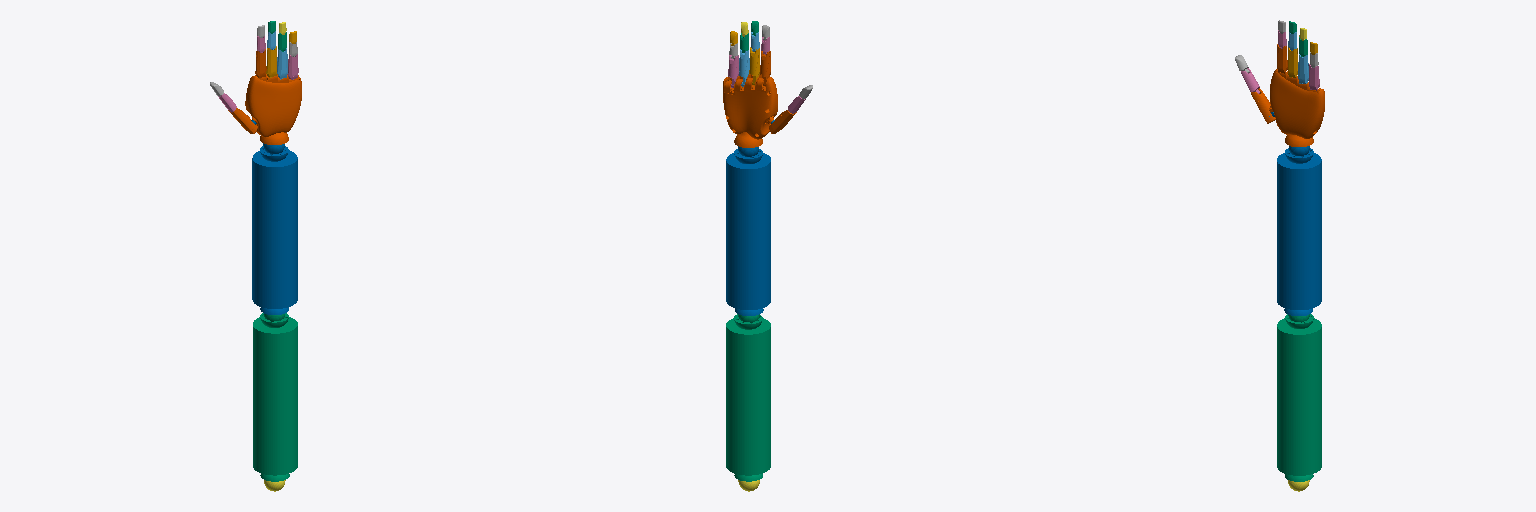
robot.urdf — threedof:
<robot name="threedof" version="1.0">
  <joint name="backarmx_link_joint" type="revolute">
    <limit lower="-3.14000" upper="3.14000" effort="0.00000" velocity="0.00000"/>
    <origin rpy="0.00000 0.00000 0.00000" xyz="0.00000 0.00000 0.00000"/>
    <parent link="base_link"/>
    <child link="backarm_link"/>
    <axis xyz="-1.00000 0.00000 0.00000"/>
  </joint>
  <joint name="backarmy_link_joint" type="revolute">
    <limit lower="-3.14000" upper="3.14000" effort="0.00000" velocity="0.00000"/>
    <origin rpy="0.00000 0.00000 0.00000" xyz="0.00000 0.00000 0.00000"/>
    <parent link="backarm_link"/>
    <child link="backarm_link.001"/>
    <axis xyz="0.00000 1.00000 0.00000"/>
  </joint>
  <joint name="backarmz_link_joint" type="revolute">
    <limit lower="-3.14000" upper="3.14000" effort="0.00000" velocity="0.00000"/>
    <origin rpy="0.00000 0.00000 0.00000" xyz="0.00000 0.00000 0.00000"/>
    <parent link="backarm_link.001"/>
    <child link="backarm_link.002"/>
    <axis xyz="0.00000 0.00000 1.00000"/>
  </joint>
  <joint name="forearmx_link_joint" type="revolute">
    <limit lower="-3.14000" upper="3.14000" effort="0.00000" velocity="0.00000"/>
    <origin rpy="0.00000 0.00000 0.00000" xyz="0.00000 0.00000 0.61707"/>
    <parent link="backarm_link.002"/>
    <child link="forearm_link"/>
    <axis xyz="-1.00000 0.00000 0.00000"/>
  </joint>
  <joint name="ind01_link_joint" type="revolute">
    <limit lower="-3.14000" upper="3.14000" effort="0.00000" velocity="0.00000"/>
    <origin rpy="0.00000 0.00000 0.00000" xyz="0.00000 0.00000 0.00000"/>
    <parent link="palm_link"/>
    <child link="palm_link.001"/>
    <axis xyz="0.00000 0.00000 1.00000"/>
  </joint>
  <joint name="ind02_link_joint" type="revolute">
    <limit lower="-3.14000" upper="3.14000" effort="0.00000" velocity="0.00000"/>
    <origin rpy="0.00000 0.00000 0.00000" xyz="0.00000 0.00000 0.00000"/>
    <parent link="palm_link.001"/>
    <child link="palm_link.002"/>
    <axis xyz="0.00000 1.00000 0.00000"/>
  </joint>
  <joint name="ind0_link_joint" type="revolute">
    <limit lower="-3.14000" upper="3.14000" effort="0.00000" velocity="0.00000"/>
    <origin rpy="0.00000 0.00000 0.00000" xyz="0.00000 0.00000 0.61571"/>
    <parent link="forearm_link"/>
    <child link="palm_link"/>
    <axis xyz="-1.00000 0.00000 0.00000"/>
  </joint>
  <joint name="ind0i_link_joint" type="revolute">
    <limit lower="-3.14000" upper="3.14000" effort="0.00000" velocity="0.00000"/>
    <origin rpy="0.00000 0.00000 0.00000" xyz="-0.06628 -0.00526 0.24780"/>
    <parent link="palm_link.002"/>
    <child link="ind0_link"/>
    <axis xyz="-1.00000 0.00000 0.00000"/>
  </joint>
  <joint name="ind1_link_joint" type="revolute">
    <limit lower="-3.14000" upper="3.14000" effort="0.00000" velocity="0.00000"/>
    <origin rpy="0.00000 0.00000 0.00000" xyz="0.00737 -0.00269 0.10775"/>
    <parent link="ind0_link"/>
    <child link="ind1_link"/>
    <axis xyz="-1.00000 0.00000 0.00000"/>
  </joint>
  <joint name="ind2_link_joint" type="revolute">
    <limit lower="-3.14000" upper="3.14000" effort="0.00000" velocity="0.00000"/>
    <origin rpy="0.00000 0.00000 0.00000" xyz="-0.00008 0.00019 0.05358"/>
    <parent link="ind1_link"/>
    <child link="ind2_link"/>
    <axis xyz="-1.00000 0.00000 0.00000"/>
  </joint>
  <joint name="mid0_link_joint" type="revolute">
    <limit lower="-3.14000" upper="3.14000" effort="0.00000" velocity="0.00000"/>
    <origin rpy="0.00000 0.00000 0.00000" xyz="-0.02463 -0.00511 0.24156"/>
    <parent link="palm_link.002"/>
    <child link="mid0_link"/>
    <axis xyz="-1.00000 0.00000 0.00000"/>
  </joint>
  <joint name="mid1_link_joint" type="revolute">
    <limit lower="-3.14000" upper="3.14000" effort="0.00000" velocity="0.00000"/>
    <origin rpy="0.00000 0.00000 0.00000" xyz="0.00662 -0.00299 0.11437"/>
    <parent link="mid0_link"/>
    <child link="mid1_link"/>
    <axis xyz="-1.00000 0.00000 0.00000"/>
  </joint>
  <joint name="mid2_link_joint" type="revolute">
    <limit lower="-3.14000" upper="3.14000" effort="0.00000" velocity="0.00000"/>
    <origin rpy="0.00000 0.00000 0.00000" xyz="-0.00018 0.00014 0.06014"/>
    <parent link="mid1_link"/>
    <child link="mid2_link"/>
    <axis xyz="-1.00000 0.00000 0.00000"/>
  </joint>
  <joint name="pink0_link_joint" type="revolute">
    <limit lower="-3.14000" upper="3.14000" effort="0.00000" velocity="0.00000"/>
    <origin rpy="0.00000 0.00000 0.00000" xyz="0.05707 -0.00491 0.21334"/>
    <parent link="palm_link.002"/>
    <child link="pink0_link"/>
    <axis xyz="-1.00000 0.00000 0.00000"/>
  </joint>
  <joint name="pink1_link_joint" type="revolute">
    <limit lower="-3.14000" upper="3.14000" effort="0.00000" velocity="0.00000"/>
    <origin rpy="0.00000 0.00000 0.00000" xyz="0.00763 -0.00303 0.09828"/>
    <parent link="pink0_link"/>
    <child link="pink1_link"/>
    <axis xyz="-1.00000 0.00000 0.00000"/>
  </joint>
  <joint name="pink2_link_joint" type="revolute">
    <limit lower="-3.14000" upper="3.14000" effort="0.00000" velocity="0.00000"/>
    <origin rpy="0.00000 0.00000 0.00000" xyz="-0.00065 -0.00001 0.04655"/>
    <parent link="pink1_link"/>
    <child link="pink2_link"/>
    <axis xyz="-1.00000 0.00000 0.00000"/>
  </joint>
  <joint name="ring0_link_joint" type="revolute">
    <limit lower="-3.14000" upper="3.14000" effort="0.00000" velocity="0.00000"/>
    <origin rpy="0.00000 0.00000 0.00000" xyz="0.01624 -0.00360 0.22594"/>
    <parent link="palm_link.002"/>
    <child link="ring0_link"/>
    <axis xyz="-1.00000 0.00000 0.00000"/>
  </joint>
  <joint name="ring1_link_joint" type="revolute">
    <limit lower="-3.14000" upper="3.14000" effort="0.00000" velocity="0.00000"/>
    <origin rpy="0.00000 0.00000 0.00000" xyz="0.00680 -0.00436 0.11628"/>
    <parent link="ring0_link"/>
    <child link="ring1_link"/>
    <axis xyz="-1.00000 0.00000 0.00000"/>
  </joint>
  <joint name="ring2_link_joint" type="revolute">
    <limit lower="-3.14000" upper="3.14000" effort="0.00000" velocity="0.00000"/>
    <origin rpy="0.00000 0.00000 0.00000" xyz="-0.00012 -0.00003 0.05997"/>
    <parent link="ring1_link"/>
    <child link="ring2_link"/>
    <axis xyz="-1.00000 0.00000 0.00000"/>
  </joint>
  <joint name="thumb0_link_joint" type="revolute">
    <limit lower="-3.14000" upper="3.14000" effort="0.00000" velocity="0.00000"/>
    <origin rpy="0.00000 0.00000 0.00000" xyz="-0.08268 -0.01129 0.11191"/>
    <parent link="palm_link.002"/>
    <child link="thumb0_link"/>
    <axis xyz="-0.68144 0.00000 -0.73187"/>
  </joint>
  <joint name="thumb1_link_joint" type="revolute">
    <limit lower="-3.14000" upper="3.14000" effort="0.00000" velocity="0.00000"/>
    <origin rpy="0.00000 0.00000 0.00000" xyz="-0.01952 -0.00025 -0.01952"/>
    <parent link="thumb0_link"/>
    <child link="thumb1_link"/>
    <axis xyz="0.04196 0.99912 0.00118"/>
  </joint>
  <joint name="thumb2_link_joint" type="revolute">
    <limit lower="-3.14000" upper="3.14000" effort="0.00000" velocity="0.00000"/>
    <origin rpy="0.10008 -0.00559 0.02773" xyz="-0.05553 0.00533 0.07200"/>
    <parent link="thumb1_link"/>
    <child link="thumb2_link"/>
    <axis xyz="0.13584 0.98435 -0.11222"/>
  </joint>
  <joint name="thumb3_link_joint" type="revolute">
    <limit lower="-3.14000" upper="3.14000" effort="0.00000" velocity="0.00000"/>
    <origin rpy="-0.00000 -0.00000 0.00000" xyz="-0.04382 0.01172 0.06431"/>
    <parent link="thumb2_link"/>
    <child link="thumb3_link"/>
    <axis xyz="0.13584 0.98435 -0.11222"/>
  </joint>
  <link name="backarm_link">
    <inertial>
      <inertia ixx="0.01500" ixy="0.00000" ixz="0.00002" iyy="0.01500" iyz="-0.00003" izz="0.00118"/>
      <mass value="0.50000"/>
    </inertial>
  </link>
  <link name="backarm_link.001">
    <inertial>
      <inertia ixx="0.01500" ixy="0.00000" ixz="0.00002" iyy="0.01500" iyz="-0.00003" izz="0.00118"/>

      <mass value="0.50000"/>
    </inertial>
  </link>
  <link name="backarm_link.002">
    <collision name="backarm_collision">
      <origin rpy="1.57080 0.00000 0.00000" xyz="0.00024 0.00103 0.33362"/>
      <geometry>
        <mesh filename="meshes/stl/backarm.stl" scale="0.00200 0.00200 0.00200"/>
      </geometry>
    </collision>
    <inertial>
      <inertia ixx="0.01500" ixy="0.00000" ixz="0.00002" iyy="0.01500" iyz="-0.00003" izz="0.00118"/>
      <origin rpy="0.00000 0.00000 0.00000" xyz="0.00129 0.00015 0.32583"/>
      <mass value="0.50000"/>
    </inertial>
    <visual name="backarm">
      <origin rpy="1.57080 0.00000 0.00000" xyz="0.00024 0.00103 0.33362"/>
      <geometry>
        <mesh filename="meshes/stl/backarm.stl" scale="0.00200 0.00200 0.00200"/>
      </geometry>
    </visual>
  </link>
  <link name="base_link">
    <inertial>
      <inertia ixx="0.00026" ixy="-0.00000" ixz="-0.00000" iyy="0.00026" iyz="0.00000" izz="0.00026"/>
      <origin rpy="0.00000 0.00000 0.00000" xyz="-0.00074 -0.00003 0.00184"/>
      <mass value="0.50000"/>
    </inertial>
    <visual name="shoulder">
      <origin rpy="1.57080 0.00000 0.00000" xyz="-0.00074 -0.00049 0.00184"/>
      <geometry>
        <mesh filename="meshes/stl/shoulder.stl" scale="0.00200 0.00200 0.00200"/>
      </geometry>
    </visual>
  </link>
  <link name="forearm_link">
    <collision name="forearm_collision">
      <origin rpy="1.57080 0.00000 0.00000" xyz="-0.00061 0.00121 0.32742"/>
      <geometry>
        <mesh filename="meshes/stl/forearm.stl" scale="0.00200 0.00200 0.00200"/>
      </geometry>
    </collision>
    <inertial>
      <inertia ixx="0.01511" ixy="0.00000" ixz="0.00001" iyy="0.01511" iyz="-0.00004" izz="0.00118"/>
      <origin rpy="0.00000 0.00000 0.00000" xyz="0.00038 0.00023 0.31921"/>
      <mass value="0.50000"/>
    </inertial>
    <visual name="forearm">
      <origin rpy="1.57080 0.00000 0.00000" xyz="-0.00061 0.00121 0.32742"/>
      <geometry>
        <mesh filename="meshes/stl/forearm.stl" scale="0.00200 0.00200 0.00200"/>
      </geometry>
    </visual>
  </link>
  <link name="ind0_link">
    <collision name="ind0_collision">
      <origin rpy="1.57080 0.00000 0.00000" xyz="0.00688 -0.00351 0.07148"/>
      <geometry>
        <mesh filename="meshes/stl/indo0.stl" scale="0.00200 0.00200 0.00200"/>
      </geometry>
    </collision>
    <inertial>
      <inertia ixx="0.00064" ixy="0.00000" ixz="-0.00004" iyy="0.00065" iyz="0.00003" izz="0.00006"/>
      <origin rpy="0.00000 0.00000 0.00000" xyz="0.00628 -0.00214 0.05481"/>
      <mass value="0.50000"/>
    </inertial>
    <visual name="ind0">
      <origin rpy="1.57080 0.00000 0.00000" xyz="0.00688 -0.00351 0.07148"/>
      <geometry>
        <mesh filename="meshes/stl/indo0.stl" scale="0.00200 0.00200 0.00200"/>
      </geometry>
    </visual>
  </link>
  <link name="ind1_link">
    <collision name="ind1_collision">
      <origin rpy="1.57080 0.00000 0.00000" xyz="-0.00022 -0.00015 0.03627"/>
      <geometry>
        <mesh filename="meshes/stl/ind1.stl" scale="0.00200 0.00200 0.00200"/>
      </geometry>
    </collision>
    <inertial>
      <inertia ixx="0.00014" ixy="0.00000" ixz="0.00000" iyy="0.00016" iyz="0.00000" izz="0.00004"/>
      <origin rpy="0.00000 0.00000 0.00000" xyz="0.00005 -0.00086 0.02902"/>
      <mass value="0.50000"/>
    </inertial>
    <visual name="ind1">
      <origin rpy="1.57080 0.00000 0.00000" xyz="-0.00022 -0.00015 0.03627"/>
      <geometry>
        <mesh filename="meshes/stl/ind1.stl" scale="0.00200 0.00200 0.00200"/>
      </geometry>
    </visual>
  </link>
  <link name="ind2_link">
    <collision name="ind2_collision">
      <origin rpy="1.57080 0.00000 0.00000" xyz="0.00044 0.00109 0.01686"/>
      <geometry>
        <mesh filename="meshes/stl/ind2.stl" scale="0.00200 0.00200 0.00200"/>
      </geometry>
    </collision>
    <inertial>
      <inertia ixx="0.00011" ixy="-0.00000" ixz="0.00000" iyy="0.00012" iyz="0.00001" izz="0.00003"/>
      <origin rpy="0.00000 0.00000 0.00000" xyz="0.00013 -0.00141 0.02231"/>
      <mass value="0.50000"/>
    </inertial>
    <visual name="ind2">
      <origin rpy="1.57080 0.00000 0.00000" xyz="0.00044 0.00109 0.01686"/>
      <geometry>
        <mesh filename="meshes/stl/ind2.stl" scale="0.00200 0.00200 0.00200"/>
      </geometry>
    </visual>
  </link>
  <link name="mid0_link">
    <collision name="mid0_collision">
      <origin rpy="1.57080 0.00000 0.00000" xyz="0.00653 -0.00358 0.07529"/>
      <geometry>
        <mesh filename="meshes/stl/mid0.stl" scale="0.00200 0.00200 0.00200"/>
      </geometry>
    </collision>
    <inertial>
      <inertia ixx="0.00071" ixy="0.00000" ixz="-0.00004" iyy="0.00072" iyz="0.00003" izz="0.00006"/>
      <origin rpy="0.00000 0.00000 0.00000" xyz="0.00614 -0.00150 0.06417"/>
      <mass value="0.50000"/>
    </inertial>
    <visual name="mid0">
      <origin rpy="1.57080 0.00000 0.00000" xyz="0.00653 -0.00358 0.07529"/>
      <geometry>
        <mesh filename="meshes/stl/mid0.stl" scale="0.00200 0.00200 0.00200"/>
      </geometry>
    </visual>
  </link>
  <link name="mid1_link">
    <collision name="mid1_collision">
      <origin rpy="1.57080 0.00000 0.00000" xyz="-0.00002 -0.00005 0.04230"/>
      <geometry>
        <mesh filename="meshes/stl/mid1.stl" scale="0.00200 0.00200 0.00200"/>
      </geometry>
    </collision>
    <inertial>
      <inertia ixx="0.00020" ixy="0.00000" ixz="0.00000" iyy="0.00021" iyz="0.00000" izz="0.00004"/>
      <origin rpy="0.00000 0.00000 0.00000" xyz="0.00016 -0.00070 0.03234"/>
      <mass value="0.50000"/>
    </inertial>
    <visual name="mid1">
      <origin rpy="1.57080 0.00000 0.00000" xyz="-0.00002 -0.00005 0.04230"/>
      <geometry>
        <mesh filename="meshes/stl/mid1.stl" scale="0.00200 0.00200 0.00200"/>
      </geometry>
    </visual>
  </link>
  <link name="mid2_link">
    <collision name="mid2_collision">
      <origin rpy="1.57080 0.00000 0.00000" xyz="0.00064 0.00128 0.01692"/>
      <geometry>
        <mesh filename="meshes/stl/mid2.stl" scale="0.00200 0.00200 0.00200"/>
      </geometry>
    </collision>
    <inertial>
      <inertia ixx="0.00011" ixy="-0.00000" ixz="0.00000" iyy="0.00012" iyz="0.00001" izz="0.00003"/>
      <origin rpy="0.00000 0.00000 0.00000" xyz="0.00033 -0.00121 0.02238"/>
      <mass value="0.50000"/>
    </inertial>
    <visual name="mid2">
      <origin rpy="1.57080 0.00000 0.00000" xyz="0.00064 0.00128 0.01692"/>
      <geometry>
        <mesh filename="meshes/stl/mid2.stl" scale="0.00200 0.00200 0.00200"/>
      </geometry>
    </visual>
  </link>
  <link name="palm_link">
    <inertial>
      <inertia ixx="0.00162" ixy="0.00001" ixz="0.00016" iyy="0.00258" iyz="0.00002" izz="0.00114"/>
      <origin rpy="0.00000 0.00000 0.00000" xyz="-0.00568 -0.00267 0.14686"/>
      <mass value="0.50000"/>
    </inertial>
  </link>
  
  <link name="palm_link.001">
    <inertial>
      <inertia ixx="0.00162" ixy="0.00001" ixz="0.00016" iyy="0.00258" iyz="0.00002" izz="0.00114"/>
      <origin rpy="0.00000 0.00000 0.00000" xyz="-0.00568 -0.00267 0.14686"/>
      <mass value="0.50000"/>
    </inertial>
  </link>
  <link name="palm_link.002">
    <collision name="palm_collision">
      <origin rpy="1.57080 0.00000 0.00000" xyz="-0.00958 -0.00222 0.14685"/>
      <geometry>
        <mesh filename="meshes/stl/palm.stl" scale="0.00200 0.00200 0.00200"/>
      </geometry>
    </collision>
    <inertial>
      <inertia ixx="0.00162" ixy="0.00001" ixz="0.00016" iyy="0.00258" iyz="0.00002" izz="0.00114"/>
      <origin rpy="0.00000 0.00000 0.00000" xyz="-0.00568 -0.00267 0.14686"/>
      <mass value="0.50000"/>
    </inertial>
    <visual name="palm">
      <origin rpy="1.57080 0.00000 0.00000" xyz="-0.00958 -0.00222 0.14685"/>
      <geometry>
        <mesh filename="meshes/stl/palm.stl" scale="0.00200 0.00200 0.00200"/>
      </geometry>
    </visual>
  </link>
  <link name="pink0_link">
    <collision name="pink0_collision">
      <origin rpy="1.57080 0.00000 0.00000" xyz="0.00640 -0.00332 0.06525"/>
      <geometry>
        <mesh filename="meshes/stl/pink0.stl" scale="0.00200 0.00200 0.00200"/>
      </geometry>
    </collision>
    <inertial>
      <inertia ixx="0.00054" ixy="0.00000" ixz="-0.00003" iyy="0.00056" iyz="0.00003" izz="0.00006"/>
      <origin rpy="0.00000 0.00000 0.00000" xyz="0.00601 -0.00221 0.05038"/>
      <mass value="0.50000"/>
    </inertial>
    <visual name="pink0">
      <origin rpy="1.57080 0.00000 0.00000" xyz="0.00640 -0.00332 0.06525"/>
      <geometry>
        <mesh filename="meshes/stl/pink0.stl" scale="0.00200 0.00200 0.00200"/>
      </geometry>
    </visual>
  </link>
  <link name="pink1_link">
    <collision name="pink1_collision">
      <origin rpy="1.57080 0.00000 0.00000" xyz="-0.00074 -0.00025 0.03199"/>
      <geometry>
        <mesh filename="meshes/stl/pink1.stl" scale="0.00200 0.00200 0.00200"/>
      </geometry>
    </collision>
    <inertial>
      <inertia ixx="0.00012" ixy="0.00000" ixz="0.00000" iyy="0.00013" iyz="0.00000" izz="0.00004"/>
      <origin rpy="0.00000 0.00000 0.00000" xyz="-0.00051 -0.00028 0.02895"/>
      <mass value="0.50000"/>
    </inertial>
    <visual name="pink1">
      <origin rpy="1.57080 0.00000 0.00000" xyz="-0.00074 -0.00025 0.03199"/>
      <geometry>
        <mesh filename="meshes/stl/pink1.stl" scale="0.00200 0.00200 0.00200"/>
      </geometry>
    </visual>
  </link>
  <link name="pink2_link">
    <collision name="pink2_collision">
      <origin rpy="1.57080 0.00000 0.00000" xyz="0.00041 0.00128 0.01682"/>
      <geometry>
        <mesh filename="meshes/stl/pink2.stl" scale="0.00200 0.00200 0.00200"/>
      </geometry>
    </collision>
    <inertial>
      <inertia ixx="0.00011" ixy="-0.00000" ixz="0.00000" iyy="0.00012" iyz="0.00001" izz="0.00003"/>
      <origin rpy="0.00000 0.00000 0.00000" xyz="0.00010 -0.00121 0.02227"/>
      <mass value="0.50000"/>
    </inertial>
    <visual name="pink2">
      <origin rpy="1.57080 0.00000 0.00000" xyz="0.00041 0.00128 0.01682"/>
      <geometry>
        <mesh filename="meshes/stl/pink2.stl" scale="0.00200 0.00200 0.00200"/>
      </geometry>
    </visual>
  </link>
  <link name="ring0_link">
    <collision name="ring0_collision">
      <origin rpy="1.57080 0.00000 0.00000" xyz="0.00634 -0.00508 0.07588"/>
      <geometry>
        <mesh filename="meshes/stl/ring0.stl" scale="0.00200 0.00200 0.00200"/>
      </geometry>
    </collision>
    <inertial>
      <inertia ixx="0.00070" ixy="0.00000" ixz="-0.00004" iyy="0.00072" iyz="0.00003" izz="0.00006"/>
      <origin rpy="0.00000 0.00000 0.00000" xyz="0.00587 -0.00375 0.05912"/>
      <mass value="0.50000"/>
    </inertial>
    <visual name="ring0">
      <origin rpy="1.57080 0.00000 0.00000" xyz="0.00634 -0.00508 0.07588"/>
      <geometry>
        <mesh filename="meshes/stl/ring0.stl" scale="0.00200 0.00200 0.00200"/>
      </geometry>
    </visual>
  </link>
  <link name="ring1_link">
    <collision name="ring1_collision">
      <origin rpy="1.57080 0.00000 0.00000" xyz="-0.00005 -0.00019 0.04175"/>
      <geometry>
        <mesh filename="meshes/stl/ring1.stl" scale="0.00200 0.00200 0.00200"/>
      </geometry>
    </collision>
    <inertial>
      <inertia ixx="0.00020" ixy="0.00000" ixz="0.00000" iyy="0.00021" iyz="0.00000" izz="0.00004"/>
      <origin rpy="0.00000 0.00000 0.00000" xyz="0.00011 -0.00083 0.03179"/>
      <mass value="0.50000"/>
    </inertial>
    <visual name="ring1">
      <origin rpy="1.57080 0.00000 0.00000" xyz="-0.00005 -0.00019 0.04175"/>
      <geometry>
        <mesh filename="meshes/stl/ring1.stl" scale="0.00200 0.00200 0.00200"/>
      </geometry>
    </visual>
  </link>
  <link name="ring2_link">
    <collision name="ring2_collision">
      <origin rpy="1.57080 0.00000 0.00000" xyz="0.00053 0.00132 0.01679"/>
      <geometry>
        <mesh filename="meshes/stl/ring2.stl" scale="0.00200 0.00200 0.00200"/>
      </geometry>
    </collision>
    <inertial>
      <inertia ixx="0.00011" ixy="-0.00000" ixz="0.00000" iyy="0.00012" iyz="0.00001" izz="0.00003"/>
      <origin rpy="0.00000 0.00000 0.00000" xyz="0.00022 -0.00117 0.02224"/>
      <mass value="0.50000"/>
    </inertial>
    <visual name="ring2">
      <origin rpy="1.57080 0.00000 0.00000" xyz="0.00053 0.00132 0.01679"/>
      <geometry>
        <mesh filename="meshes/stl/ring2.stl" scale="0.00200 0.00200 0.00200"/>
      </geometry>
    </visual>
  </link>
  <link name="thumb0_link">
    <collision name="thumb_joint_collision">
      <origin rpy="1.57080 0.00000 0.00000" xyz="-0.01585 0.00001 -0.01618"/>
      <geometry>
        <mesh filename="meshes/stl/thumb_joint.stl" scale="0.00200 0.00200 0.00200"/>
      </geometry>
    </collision>
    <inertial>
      <inertia ixx="0.00006" ixy="-0.00000" ixz="-0.00001" iyy="0.00005" iyz="-0.00000" izz="0.00006"/>
      <origin rpy="0.00000 0.00000 0.00000" xyz="-0.01535 0.00001 -0.01547"/>
      <mass value="0.50000"/>
    </inertial>
    <visual name="thumb_joint">
      <origin rpy="1.57080 0.00000 0.00000" xyz="-0.01585 0.00001 -0.01618"/>
      <geometry>
        <mesh filename="meshes/stl/thumb_joint.stl" scale="0.00200 0.00200 0.00200"/>
      </geometry>
    </visual>
  </link>
  <link name="thumb1_link">
    <collision name="thumb0_collision">
      <origin rpy="1.67088 -0.00559 0.02773" xyz="-0.02431 0.00336 0.03351"/>
      <geometry>
        <mesh filename="meshes/stl/thumb0.stl" scale="0.00200 0.00200 0.00200"/>
      </geometry>
    </collision>
    <inertial>
      <inertia ixx="0.00039" ixy="0.00002" ixz="0.00024" iyy="0.00055" iyz="-0.00002" izz="0.00029"/>
      <origin rpy="0.00000 0.00000 0.00000" xyz="-0.02584 0.00336 0.03316"/>
      <mass value="0.50000"/>
    </inertial>
    <visual name="thumb0">
      <origin rpy="1.67088 -0.00559 0.02773" xyz="-0.02431 0.00336 0.03351"/>
      <geometry>
        <mesh filename="meshes/stl/thumb0.stl" scale="0.00200 0.00200 0.00200"/>
      </geometry>
    </visual>
  </link>
  <link name="thumb2_link">
    <collision name="thumb1_collision">
      <origin rpy="1.55881 0.00571 0.02097" xyz="-0.03251 0.01070 0.04591"/>
      <geometry>
        <mesh filename="meshes/stl/thumb1.stl" scale="0.00200 0.00200 0.00200"/>
      </geometry>
    </collision>
    <inertial>
      <inertia ixx="0.00029" ixy="0.00003" ixz="0.00015" iyy="0.00037" iyz="-0.00004" izz="0.00018"/>
      <origin rpy="0.00000 0.00000 0.00000" xyz="-0.02365 0.00718 0.03315"/>
      <mass value="0.50000"/>
    </inertial>
    <visual name="thumb1">
      <origin rpy="1.57080 0.00000 -0.00000" xyz="-0.03196 0.00997 0.04615"/>
      <geometry>
        <mesh filename="meshes/stl/thumb1.stl" scale="0.00200 0.00200 0.00200"/>
      </geometry>
    </visual>
  </link>
  <link name="thumb3_link">
    <collision name="thumb2_collision">
      <origin rpy="1.44065 -0.04886 -0.12876" xyz="-0.01067 0.00396 0.02091"/>
      <geometry>
        <mesh filename="meshes/stl/thumb2.stl" scale="0.00200 0.00200 0.00200"/>
      </geometry>
    </collision>
    <inertial>
      <inertia ixx="0.00014" ixy="0.00002" ixz="0.00007" iyy="0.00018" iyz="-0.00002" izz="0.00011"/>
      <origin rpy="0.00000 0.00000 0.00000" xyz="-0.01671 0.00511 0.02337"/>
      <mass value="0.50000"/>
    </inertial>
    <visual name="thumb2">
      <origin rpy="1.44955 -0.04376 -0.14996" xyz="-0.01106 0.00343 0.02007"/>
      <geometry>
        <mesh filename="meshes/stl/thumb2.stl" scale="0.00200 0.00200 0.00200"/>
      </geometry>
    </visual>
  </link>
</robot>

--- Render facts (derived) ---
3 views of the same robot in one strip: view 1: azimuth 30°, elevation 25°; view 2: azimuth 150°, elevation 25°; view 3: azimuth 330°, elevation 25° (orthographic).
Robot: threedof — 24 links, 23 joints (23 revolute); root link base_link; default pose: all joints at 0.
Links seen in each view (by area): view 1: forearm_link, backarm_link.002, palm_link.002; view 2: forearm_link, backarm_link.002, palm_link.002; view 3: forearm_link, backarm_link.002, palm_link.002.
Link boxes in pixels (x1,y1,x2,y2): forearm_link: [252, 143, 297, 314]; backarm_link.002: [253, 313, 297, 481]; palm_link.002: [245, 74, 301, 144]; forearm_link: [726, 146, 770, 315]; backarm_link.002: [726, 314, 770, 481]; palm_link.002: [723, 74, 777, 147]; forearm_link: [1277, 146, 1321, 315]; backarm_link.002: [1277, 314, 1321, 481]; palm_link.002: [1270, 69, 1324, 146].
Bounding box of the posed robot: 0.3445 × 0.1499 × 1.73 m (x, y, z).
20 mesh visuals loaded from 20 distinct referenced files (20 binary STL).
